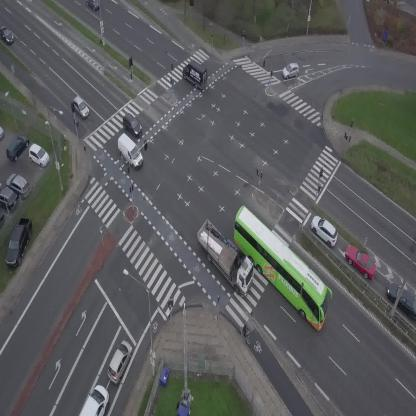bicycle: (238, 324, 254, 346)
bus: (216, 202, 345, 334)
car: (340, 240, 382, 284), (102, 338, 137, 386), (306, 211, 344, 249), (79, 382, 115, 416), (118, 112, 145, 140), (68, 94, 92, 120), (0, 23, 17, 47), (280, 61, 301, 80), (86, 0, 100, 11)
lorry: (187, 215, 265, 299), (111, 132, 149, 171), (178, 57, 215, 93)
